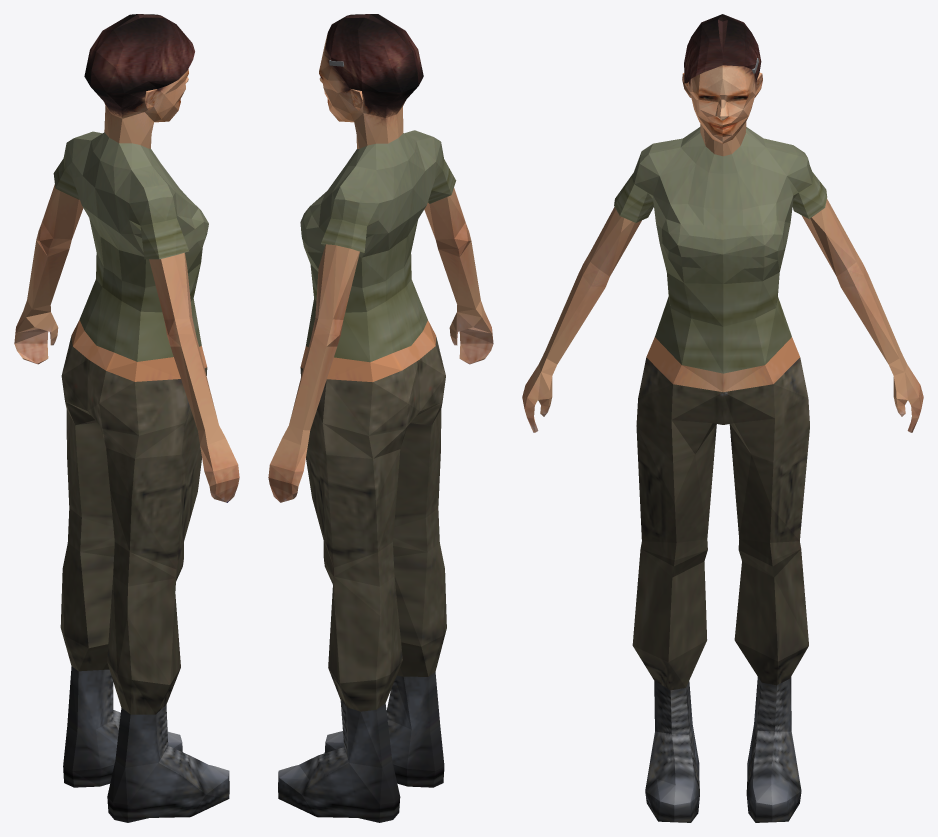
Rendered from gungrl3.obj.
3 views of the same model, side by side, from view 1: azimuth 30°, elevation 25°; view 2: azimuth 150°, elevation 25°; view 3: azimuth 270°, elevation 25° (orthographic).
Parts seen in each view (by area): view 1: _Pelvis; view 2: _Pelvis; view 3: _Pelvis.
Boxes of the visible parts, x1=… form: _Pelvis: x1=14, y1=14, x2=239, y2=822; _Pelvis: x1=268, y1=14, x2=493, y2=822; _Pelvis: x1=522, y1=14, x2=923, y2=822.
Size of the model in its own units: 0.3075 by 1.83 by 0.8559.
1 material, 1 textured.
